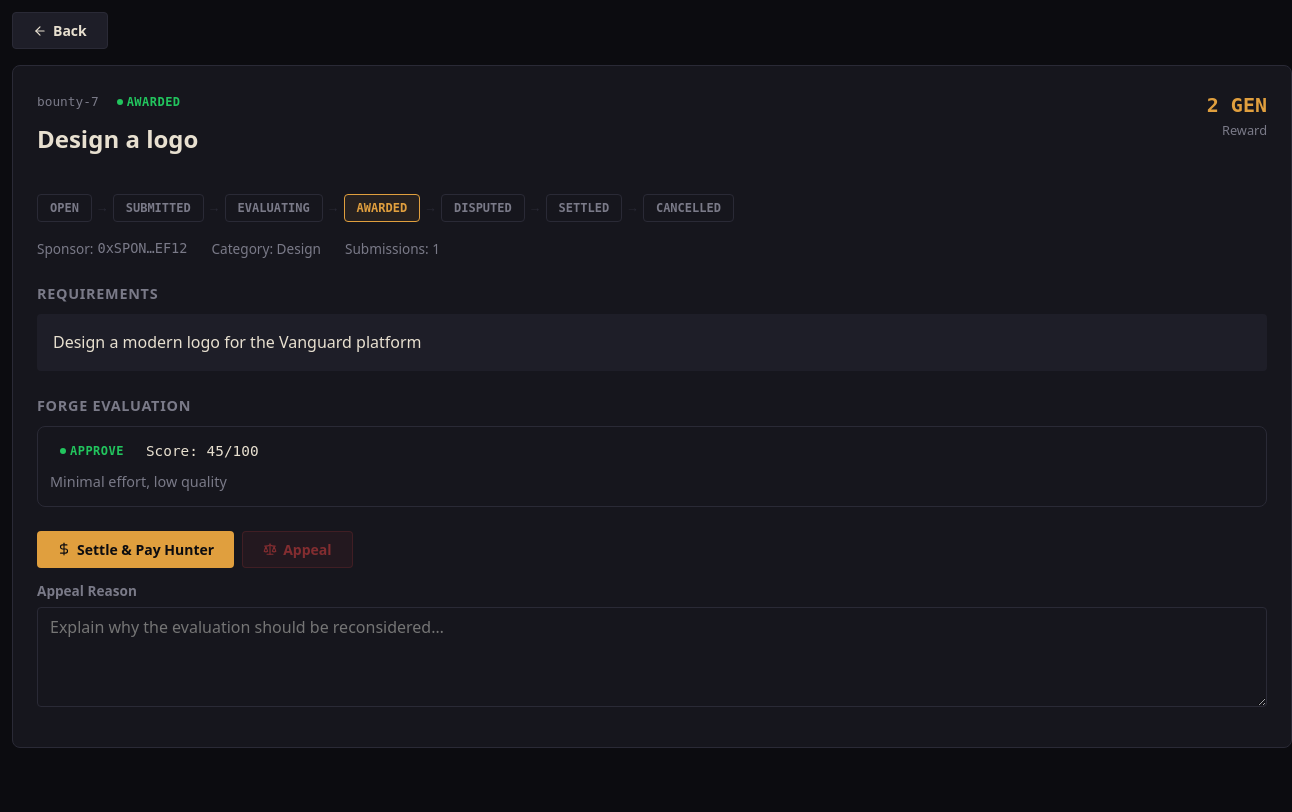
Test: Evaluation Appeal Workflow › appeal button is disabled until sponsor enters a reason
The image size is (1292, 812).
Check: the button with test id "bounty-appeal" is disabled, box [242,531,352,568]
Type a reason
Type "The evaluation score is too low for the quality of work submitted" into the text box with test id "appeal-reason-input" at {"x": 652, "y": 657}, box [37,607,1267,707]
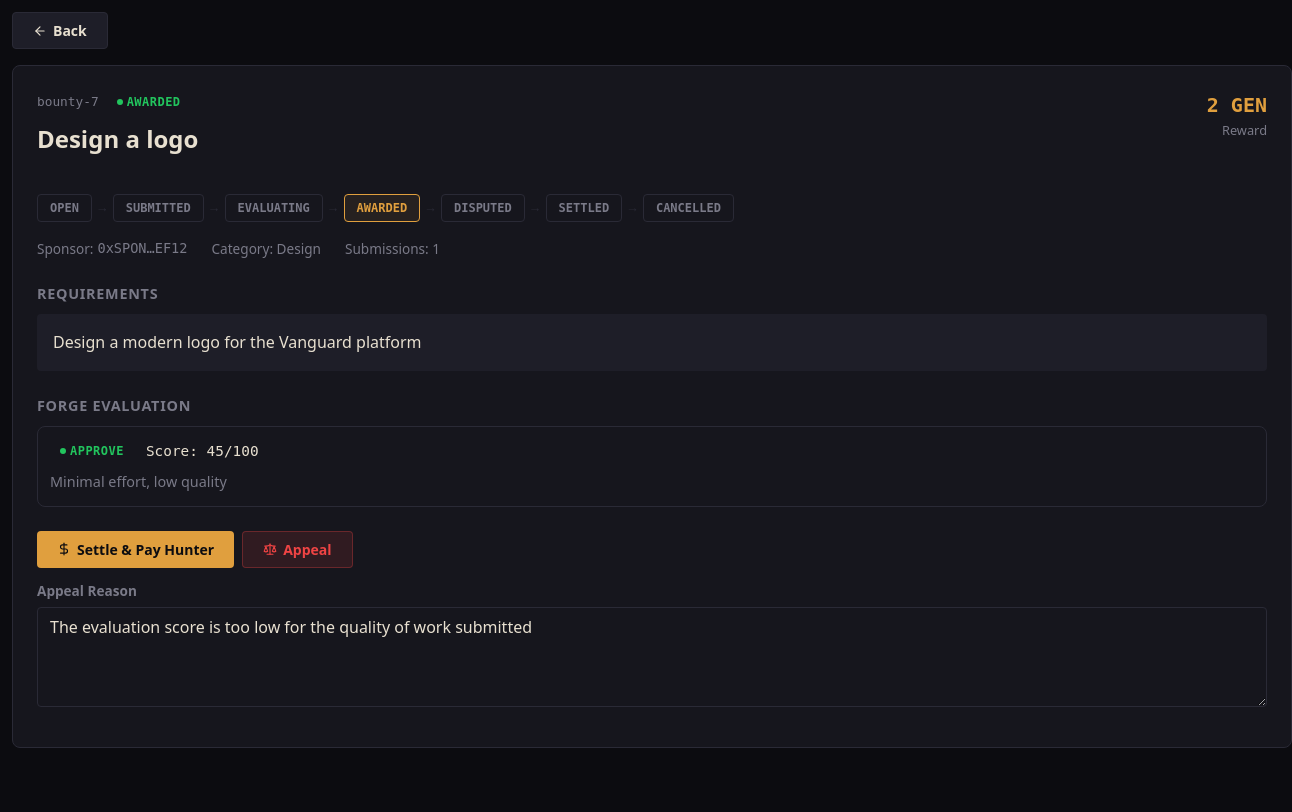
Check: the button with test id "bounty-appeal" is enabled, box [242,531,352,568]
